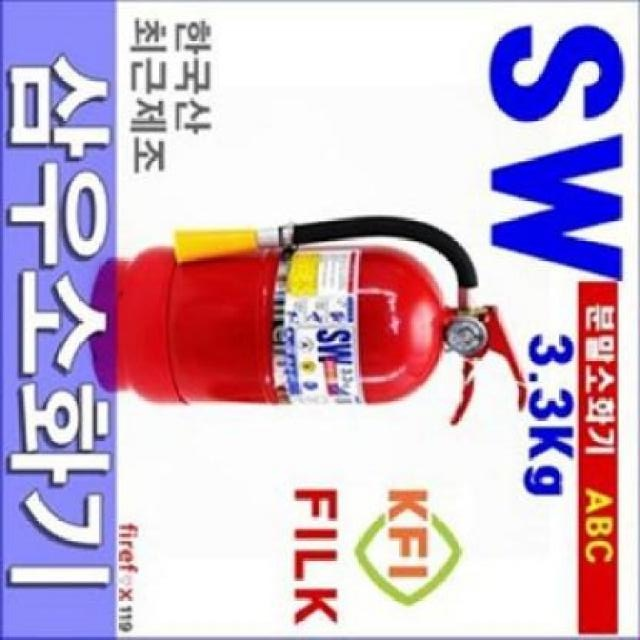fire extinguisher: (90, 213, 527, 425)
